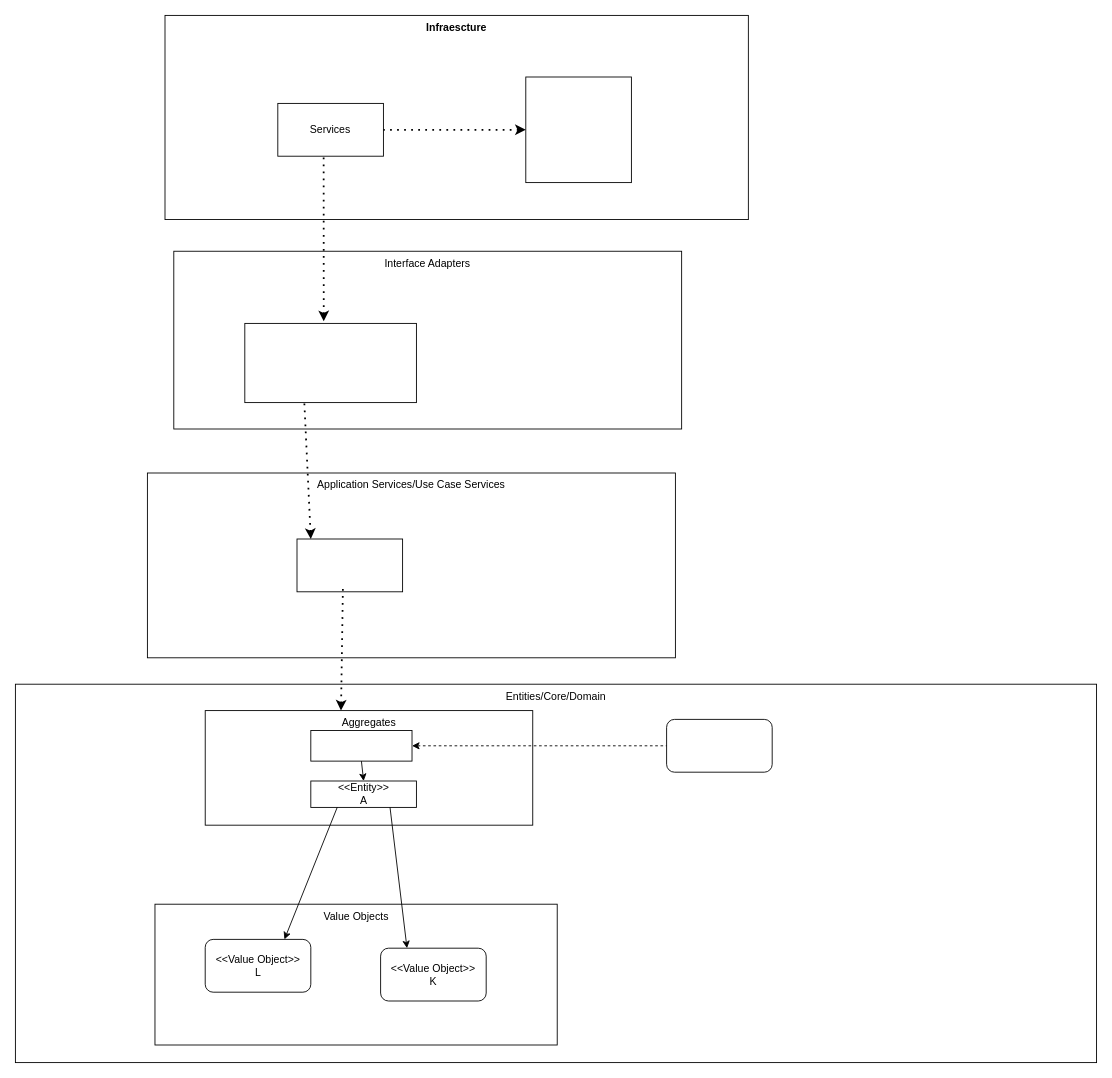
Image size: 1112x1078. Some labels were removed from this diagram. The shapes that lost their labels are listed below. From the top down, each one's centre as x and y in pixels, then its label:
At point (578, 129): "Application".
At point (330, 363): "<<controller>> XController".
At point (349, 565): "IAppServices".
At point (361, 745): "<<Root>> X".
At point (719, 745): "IRepositoriesY".
